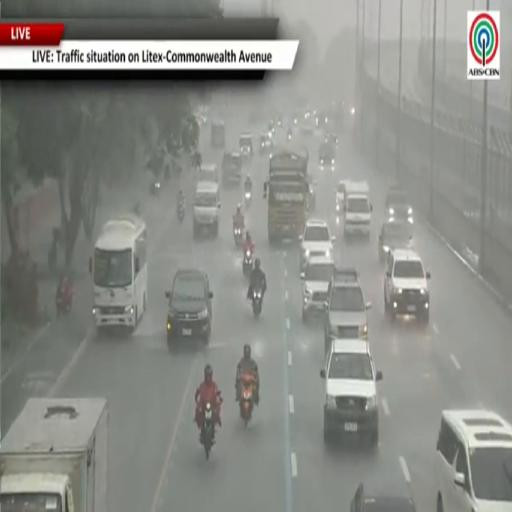bus: (89, 214, 147, 331)
car: (435, 409, 511, 511), (321, 340, 382, 447), (324, 268, 371, 354), (166, 269, 213, 347), (384, 249, 430, 324), (301, 255, 334, 322), (300, 219, 335, 270), (351, 484, 416, 511), (343, 182, 372, 239), (193, 182, 220, 237), (378, 220, 412, 262), (385, 186, 413, 223), (222, 152, 242, 186), (336, 180, 350, 223), (319, 142, 336, 170), (198, 164, 219, 183), (211, 121, 225, 149), (239, 134, 253, 158), (308, 175, 317, 211), (259, 132, 273, 155), (315, 111, 329, 129), (325, 132, 338, 146), (268, 120, 275, 136)
motorcycle: (239, 374, 255, 427), (201, 403, 214, 459), (56, 292, 72, 316), (252, 287, 263, 317), (243, 250, 253, 276), (233, 224, 243, 247), (150, 181, 160, 195), (178, 202, 184, 222), (245, 190, 251, 207)
truck: (0, 398, 108, 511), (264, 146, 309, 244)
